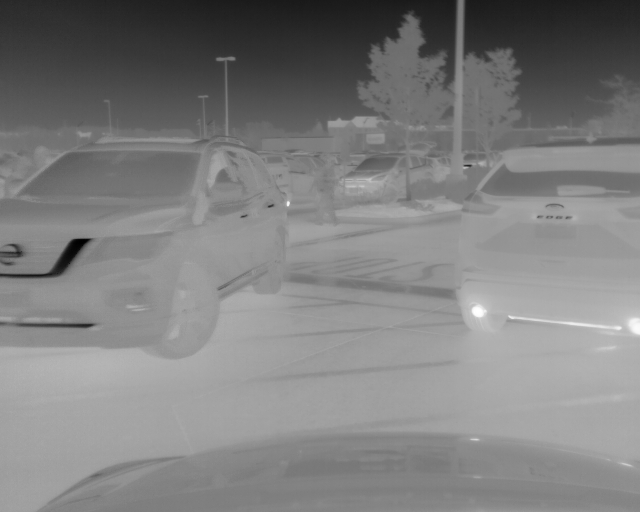car: (1, 136, 287, 360), (452, 137, 640, 340), (338, 150, 444, 204), (262, 149, 344, 206), (461, 151, 491, 170)
people: (310, 158, 341, 226), (23, 145, 48, 177)
